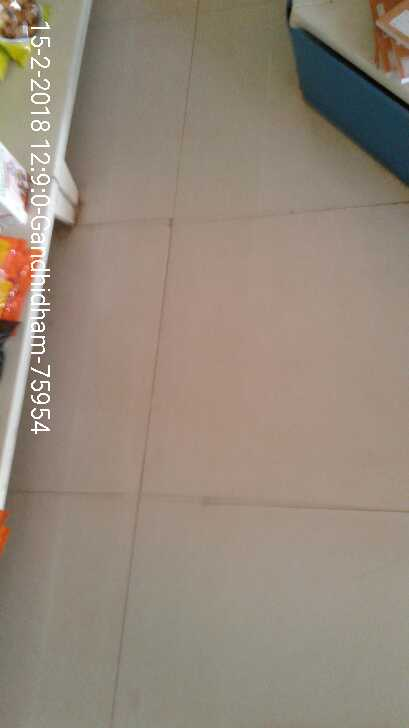reject: (180, 373, 274, 463)
